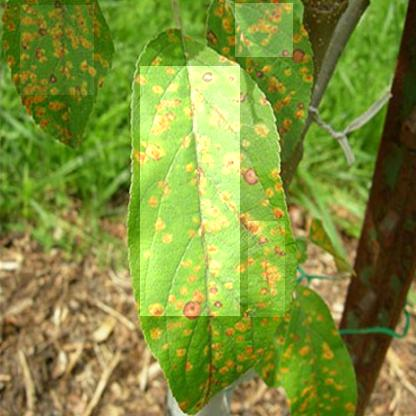black-spot: (140, 66, 240, 316), (20, 5, 94, 95), (248, 221, 285, 318), (235, 3, 293, 57)
